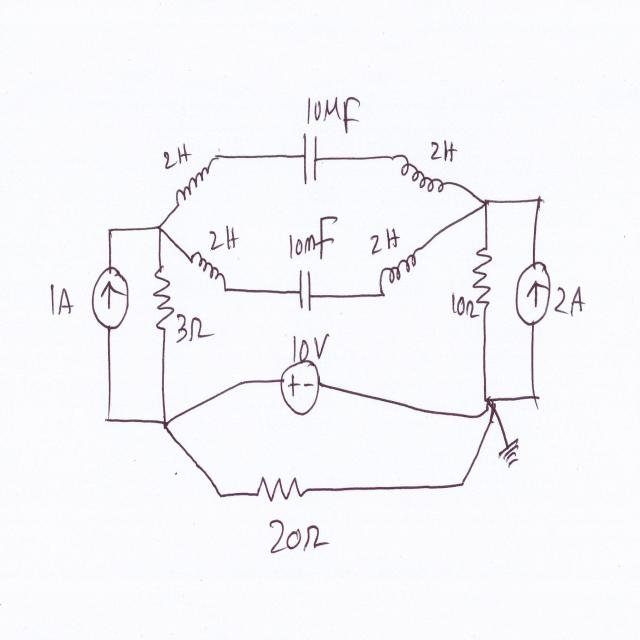capacitor: (299, 120, 322, 190), (298, 264, 314, 312)
current_source: (513, 259, 554, 332), (91, 263, 130, 333)
ground: (497, 432, 525, 476)
inductor: (388, 147, 450, 205), (376, 250, 426, 298), (167, 163, 216, 210), (187, 249, 229, 292)
resistor: (150, 261, 177, 337), (255, 465, 304, 505), (474, 242, 495, 309)
voltage_source: (282, 360, 324, 418)
